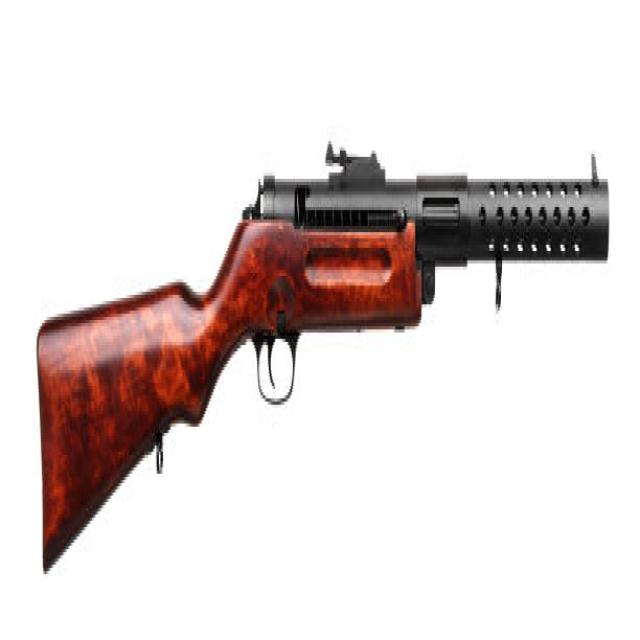rifle: (29, 137, 614, 577)
